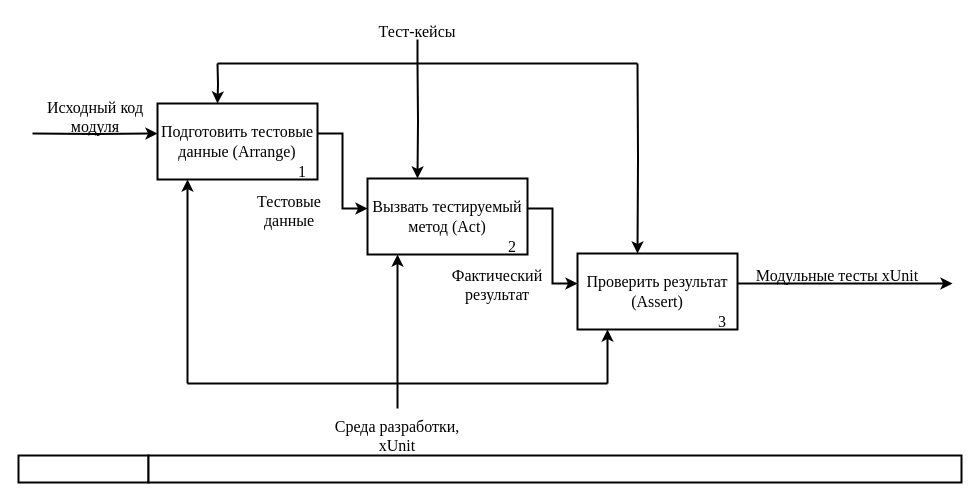
The diagram is 979 pixels wide and 500 high, and some of its shapes have lost their labels. The shapes that lost their labels are listed below. From the top down, each one's box as (x1, y1, x2, y2) in pixels, then its label:
(17, 454, 149, 483): УЗЕЛ: A2
(147, 454, 962, 483): НАЗВАНИЕ: Написать модульные тесты xUnit
